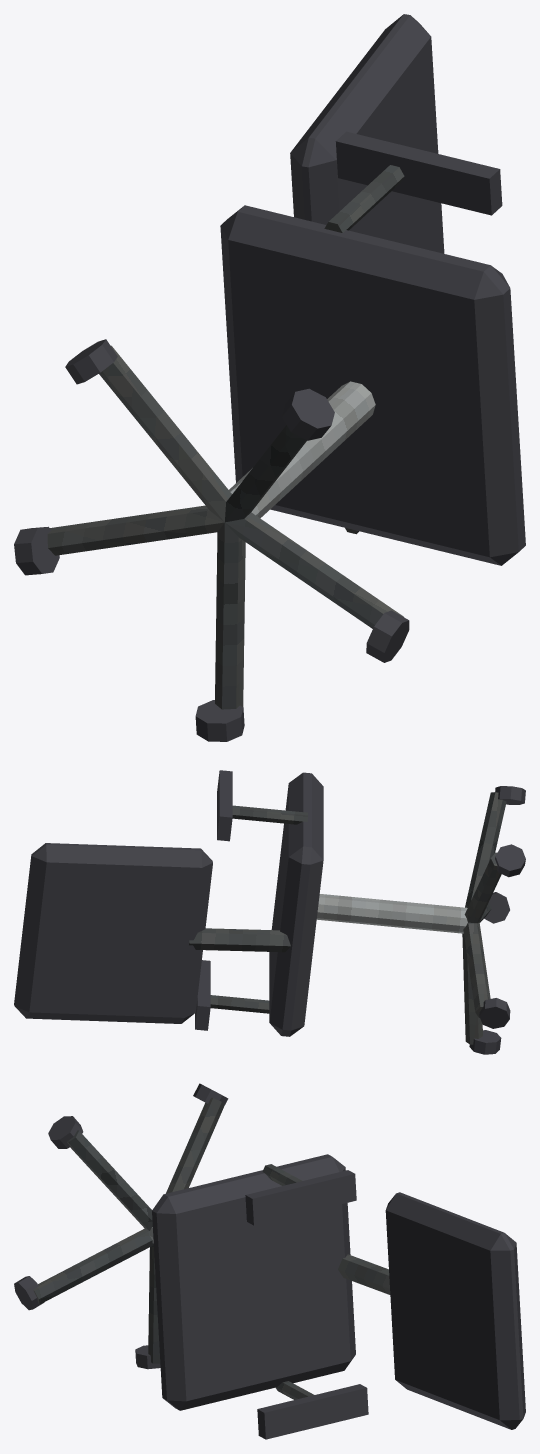
The model's file is chair_fallen.glb.
The picture shows the model from 3 angles, top to bottom: view 1: azimuth 30°, elevation 25°; view 2: azimuth 150°, elevation 25°; view 3: azimuth 270°, elevation 25°; orthographic projection. The views are drawn at different scales.
Visible parts, largest first — view 1: body; view 2: body; view 3: body.
Part boxes in pixels (x1,y1,x2,y2): body: (14, 14, 525, 741); body: (14, 770, 525, 1054); body: (14, 1083, 525, 1439).
Size of the model in its own units: 0.9931 by 0.6555 by 1.08.
3 materials, 2 textured.
